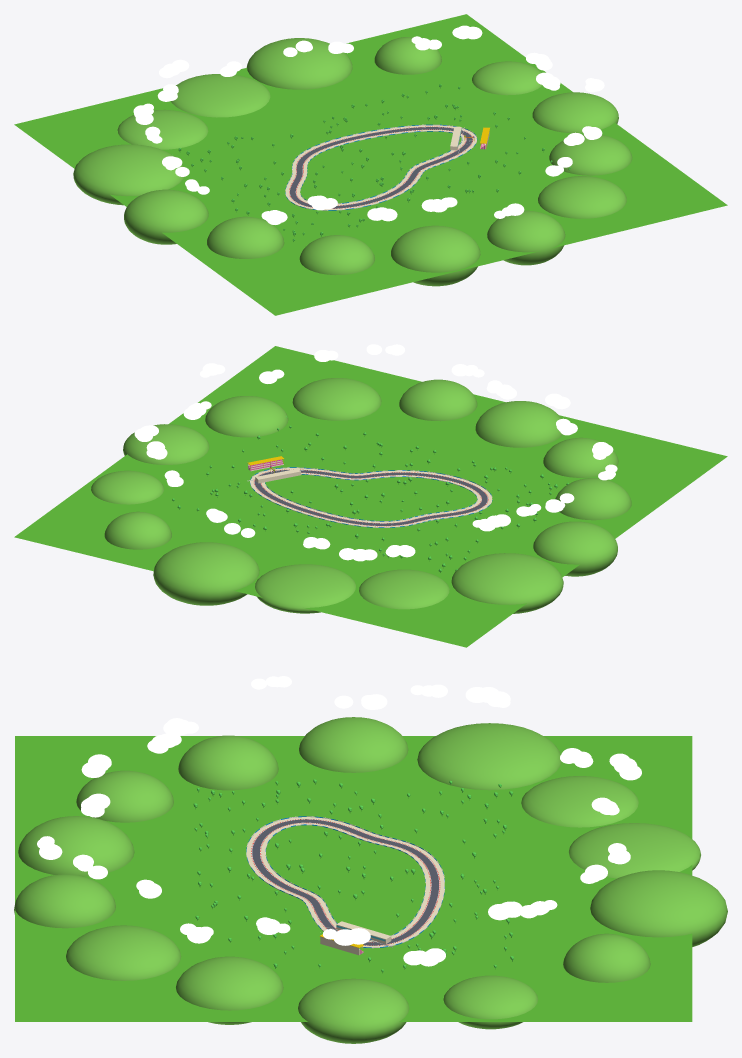
The model's file is track.glb.
The picture shows the model from 3 angles, top to bottom: view 1: azimuth 30°, elevation 25°; view 2: azimuth 150°, elevation 25°; view 3: azimuth 270°, elevation 25°; orthographic projection. The views are drawn at different scales.
Visible parts, largest first — view 1: Ground, Hill_6, Hill_3, Hill_10, Hill_4, Hill_7, Hill_11, Hill_12, Hill_0, Hill_8, Hill_5, Hill_9 (+7 smaller); view 2: Ground, Hill_3, Hill_6, Hill_4, Hill_7, Hill_10, Hill_12, Hill_5, Hill_13, Hill_11, Hill_8, Hill_0 (+9 smaller); view 3: Ground, Hill_3, Hill_6, Hill_0, Hill_4, Hill_12, Hill_7, Hill_10, Hill_13, Hill_5, Hill_8, Hill_11 (+11 smaller).
Boxes of the visible parts, box(x1,y1,x2,y2) form: Ground: box(14, 14, 727, 315); Hill_6: box(73, 144, 183, 205); Hill_3: box(246, 38, 352, 89); Hill_10: box(391, 225, 480, 286); Hill_4: box(171, 74, 270, 117); Hill_7: box(124, 189, 208, 244); Hill_11: box(487, 210, 565, 265); Hill_12: box(538, 176, 626, 218); Hill_0: box(532, 92, 618, 133); Hill_8: box(207, 216, 284, 258); Hill_5: box(117, 109, 208, 149); Hill_9: box(299, 235, 374, 275); Ground: box(14, 346, 727, 647); Hill_3: box(153, 542, 259, 605); Hill_6: box(451, 553, 563, 613); Hill_4: box(255, 564, 355, 613); Hill_7: box(533, 521, 617, 576); Hill_10: box(475, 401, 562, 447); Hill_12: box(292, 378, 381, 420); Hill_5: box(359, 569, 449, 609); Hill_13: box(205, 396, 288, 437); Hill_11: box(399, 379, 477, 421); Hill_8: box(555, 478, 631, 520); Hill_0: box(123, 424, 209, 464); Ground: box(15, 736, 692, 1021); Hill_3: box(590, 870, 727, 946); Hill_6: box(417, 723, 561, 790); Hill_0: box(298, 978, 409, 1043); Hill_4: box(569, 823, 700, 878); Hill_12: box(66, 925, 181, 980); Hill_7: box(299, 717, 408, 772); Hill_10: box(18, 816, 134, 876); Hill_13: box(176, 956, 283, 1024); Hill_5: box(521, 776, 638, 827); Hill_8: box(178, 735, 278, 790); Hill_11: box(14, 874, 115, 928).
Bounding box in the file's own units: 1069 × 185 × 1054.
